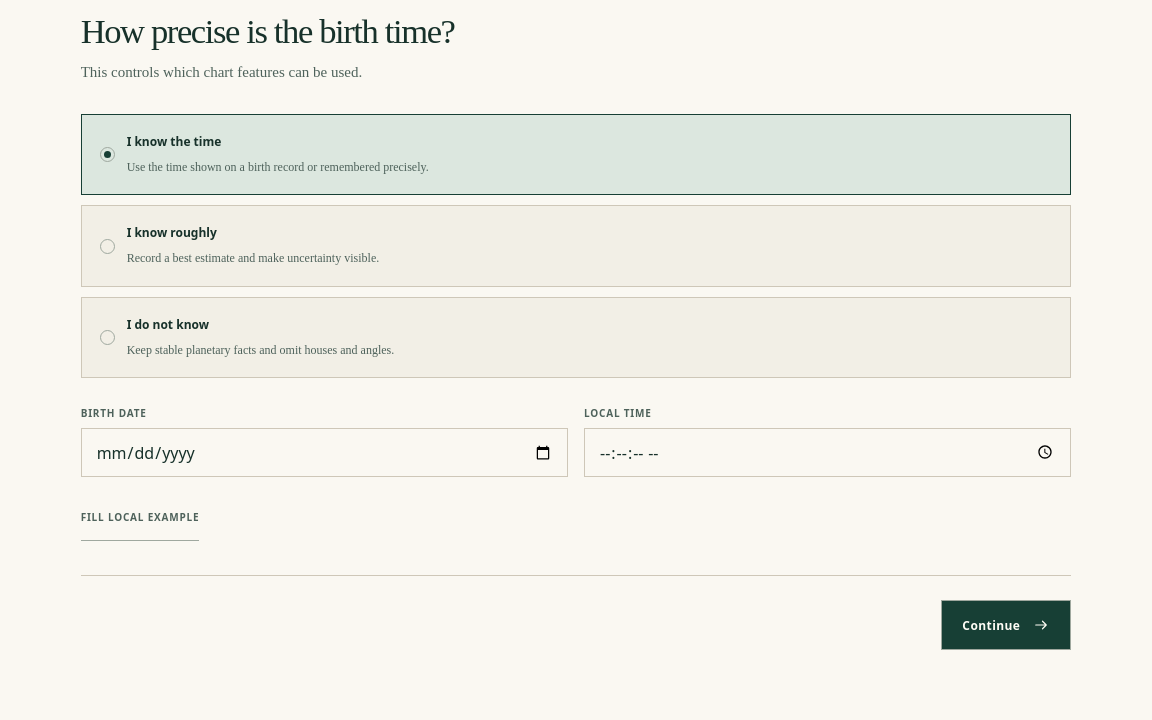
Scenario: birth onboarding › does not advance without the required chart date
(page scrolled)
Click the button "Continue". click: (1006, 625)
box: top-left (941, 600), bottom-right (1071, 650)
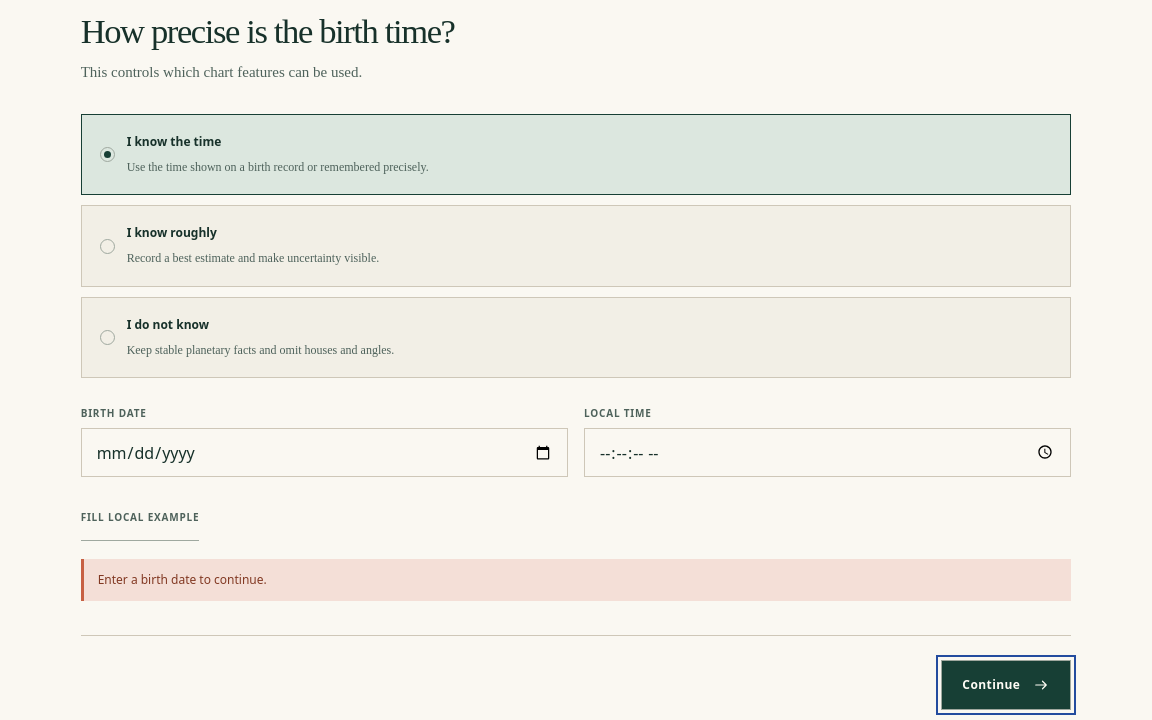
Expected: the message shows "Enter a birth date", top-left (98, 571), bottom-right (267, 588)
